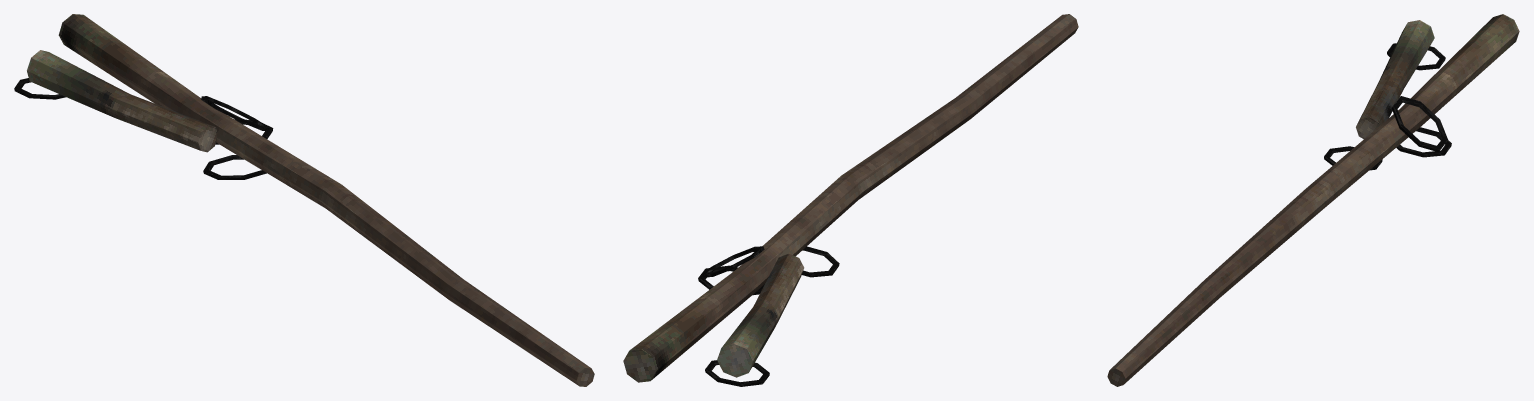
File: Lamp_broken_02.glb
3 views of the same model, side by side, from view 1: azimuth 30°, elevation 25°; view 2: azimuth 150°, elevation 25°; view 3: azimuth 330°, elevation 25° (orthographic). The views are drawn at different scales.
Visible parts, largest first — view 1: Lamp_broken_02; view 2: Lamp_broken_02; view 3: Lamp_broken_02.
Part boxes in pixels (x1=…): Lamp_broken_02: x1=14, y1=14, x2=594, y2=386; Lamp_broken_02: x1=623, y1=14, x2=1078, y2=386; Lamp_broken_02: x1=1107, y1=14, x2=1519, y2=386.
Size of the model in its own units: 2.85 by 0.8499 by 14.56.
1 material, 1 textured.
